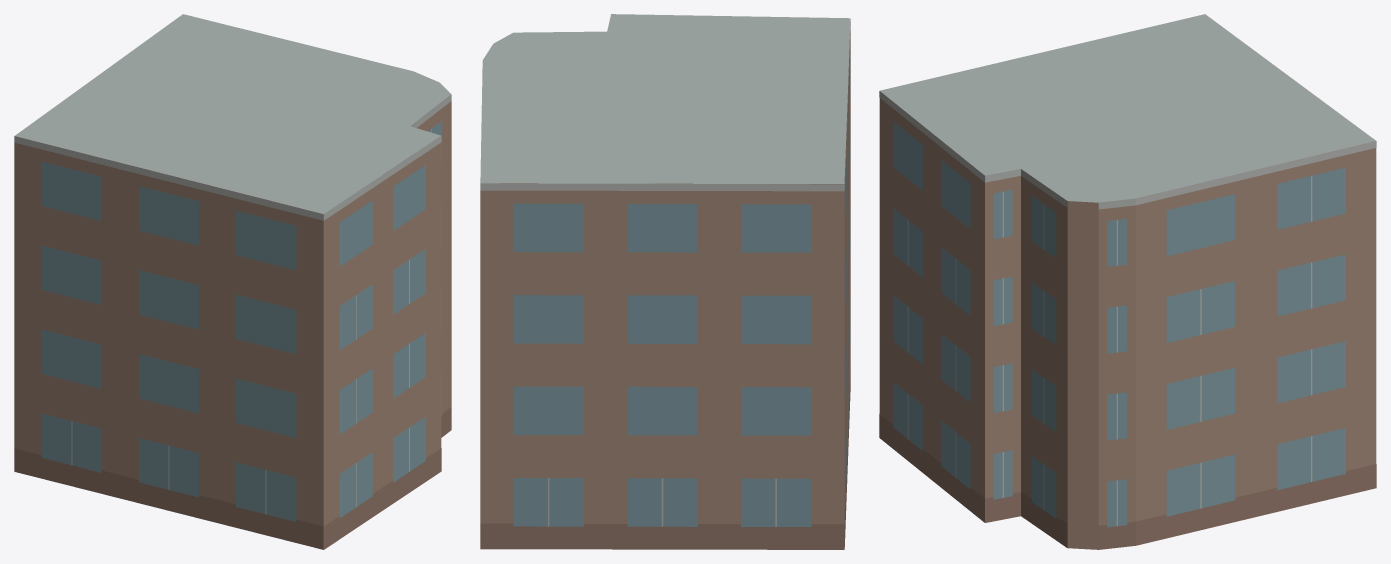
Rendered from survey-upis-32583354.glb.
3 renders of one model, left to right at view 1: azimuth 30°, elevation 25°; view 2: azimuth 150°, elevation 25°; view 3: azimuth 270°, elevation 25°, orthographic. The views are drawn at different scales.
Parts seen in each view (by area): view 1: survey-upis-32583354.tmp; view 2: survey-upis-32583354.tmp; view 3: survey-upis-32583354.tmp.
Part boxes in pixels (x1,y1,x2,y2): survey-upis-32583354.tmp: (14,14,451,549); survey-upis-32583354.tmp: (480,14,850,549); survey-upis-32583354.tmp: (879,14,1376,549).
Bounding box in the file's own units: 14.46 × 12.4 × 16.1.
